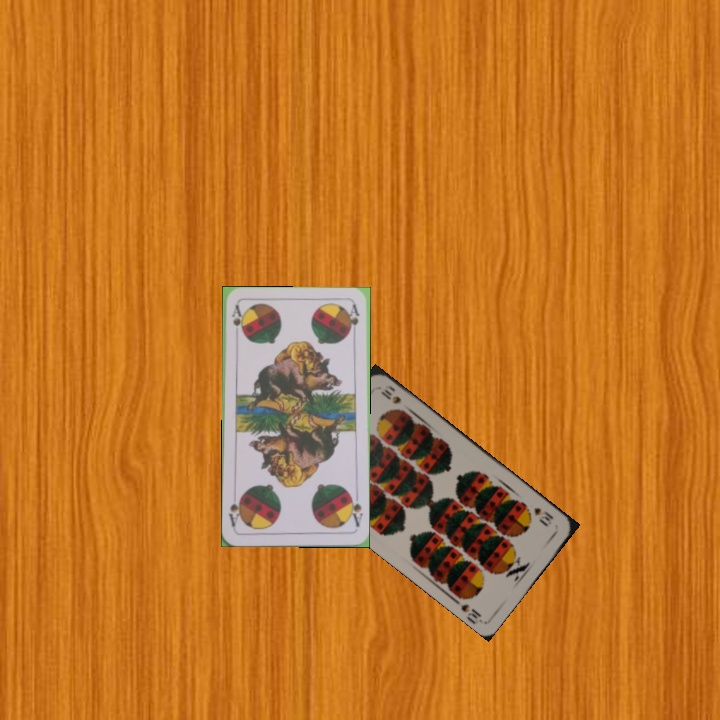S10: (530, 503, 556, 528)
SA: (345, 490, 365, 529), (228, 301, 245, 335)
